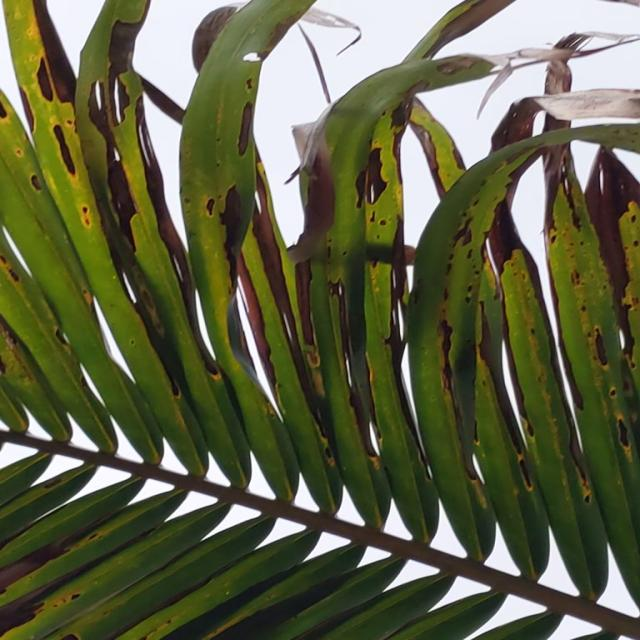leaf rot: (38, 0, 640, 332)
